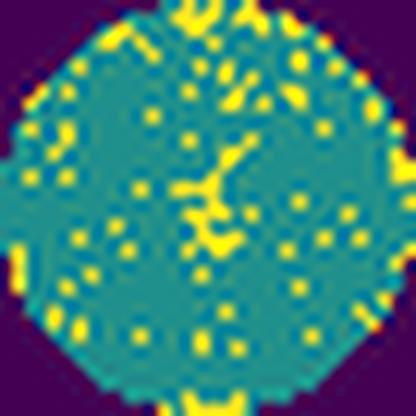Center: (168, 132, 274, 263)
